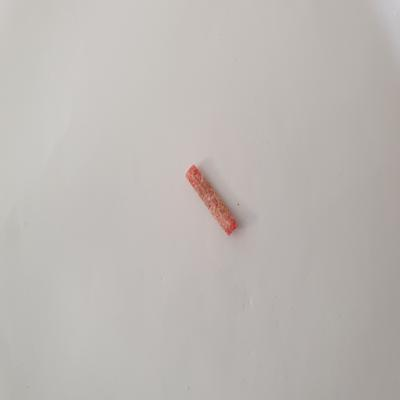plastic: (181, 160, 246, 240)
